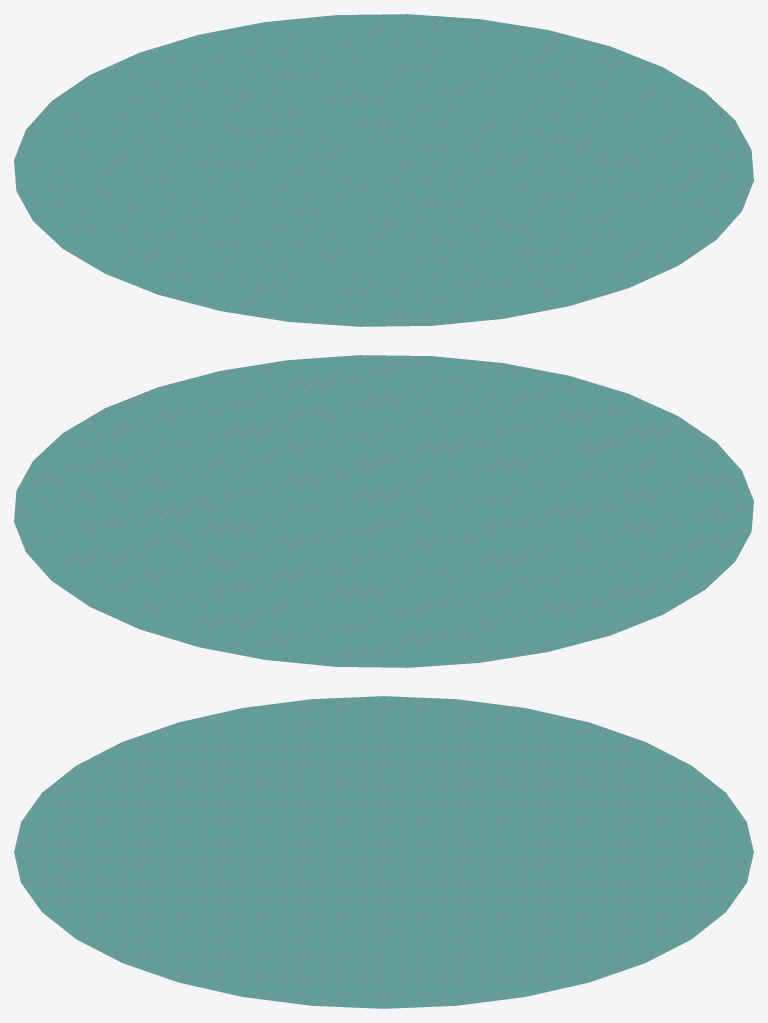
File: Water.glb
3 renders of one model, top to bottom at view 1: azimuth 30°, elevation 25°; view 2: azimuth 150°, elevation 25°; view 3: azimuth 270°, elevation 25°, orthographic.
Visible parts, largest first — view 1: Circle; view 2: Circle; view 3: Circle.
Part boxes in pixels (left/top/right/bottom): Circle: left=14, top=14, right=753, bottom=326; Circle: left=14, top=355, right=753, bottom=667; Circle: left=14, top=696, right=753, bottom=1008.
Bounding box in the file's own units: 251 × 0 × 251.
Materials: 1 (1 with a texture image).
